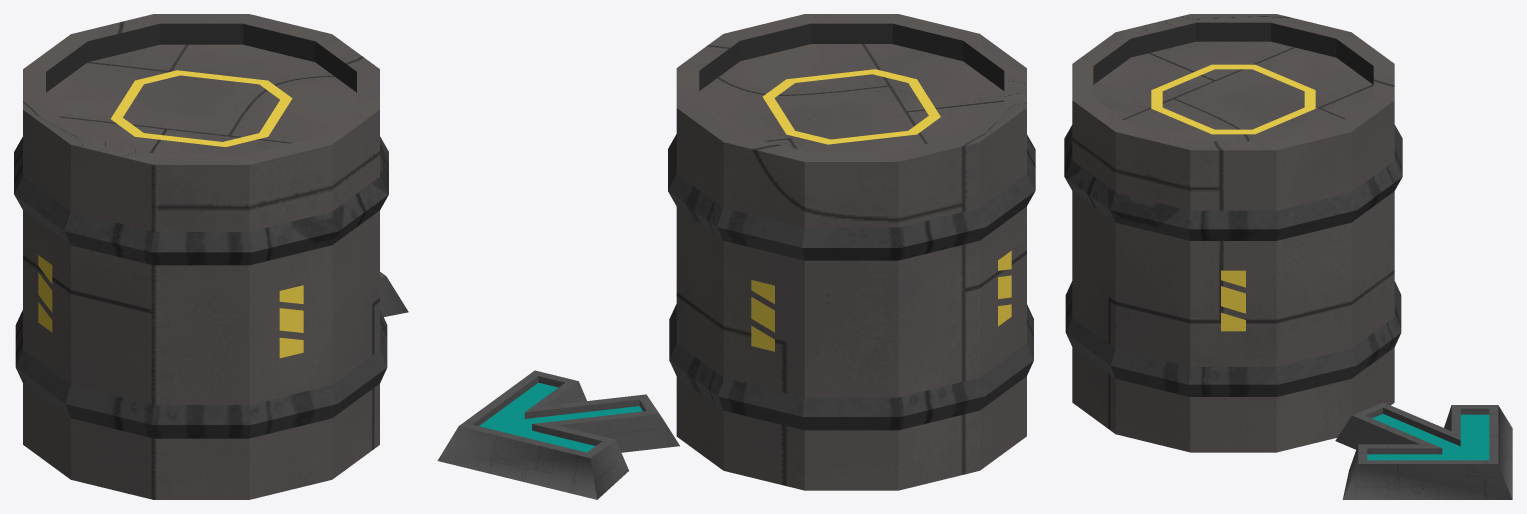
The picture shows the model from 3 angles, left to right: view 1: azimuth 30°, elevation 25°; view 2: azimuth 150°, elevation 25°; view 3: azimuth 270°, elevation 25°; orthographic projection. The views are drawn at different scales.
Visible parts, largest first — view 1: barrel_1x1, Details_Arrow.001; view 2: barrel_1x1, Details_Arrow.001; view 3: barrel_1x1, Details_Arrow.001.
Part boxes in pixels (x1,y1,x2,y2): barrel_1x1: (14,14,388,499); Details_Arrow.001: (380,272,408,316); barrel_1x1: (668,14,1035,490); Details_Arrow.001: (437,370,679,499); barrel_1x1: (1064,14,1402,452); Details_Arrow.001: (1335,402,1512,499).
Size of what is drawn, in the model's own units: 1.34 by 1 by 1.34.
Materials: 5 (5 with a texture image).
